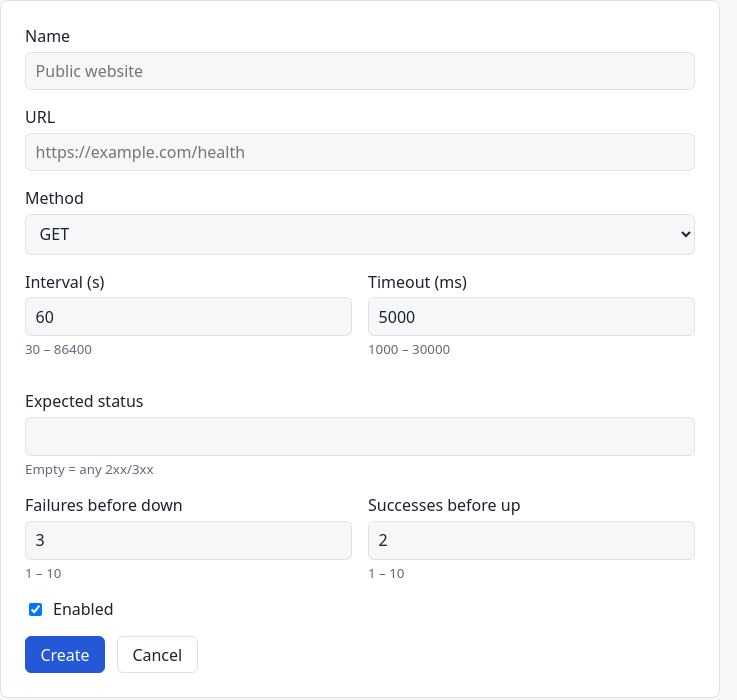
Scenario: MonitorForm › shows server field errors next to the field
Type "Internal" into the field labelled "Name" at (360, 71), box [25,52,695,90]
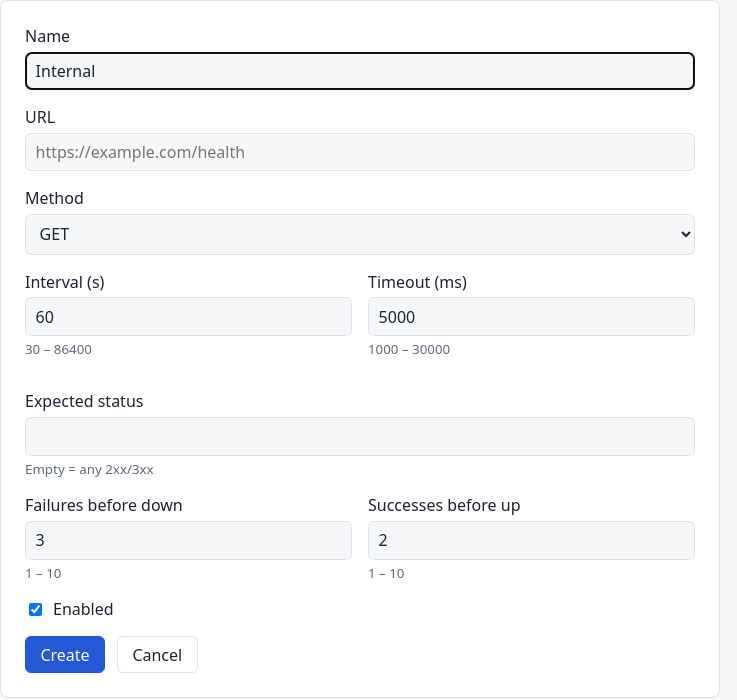
Type "http://169.254.169.254/" into the field labelled "URL" at (360, 152), box [25,133,695,171]
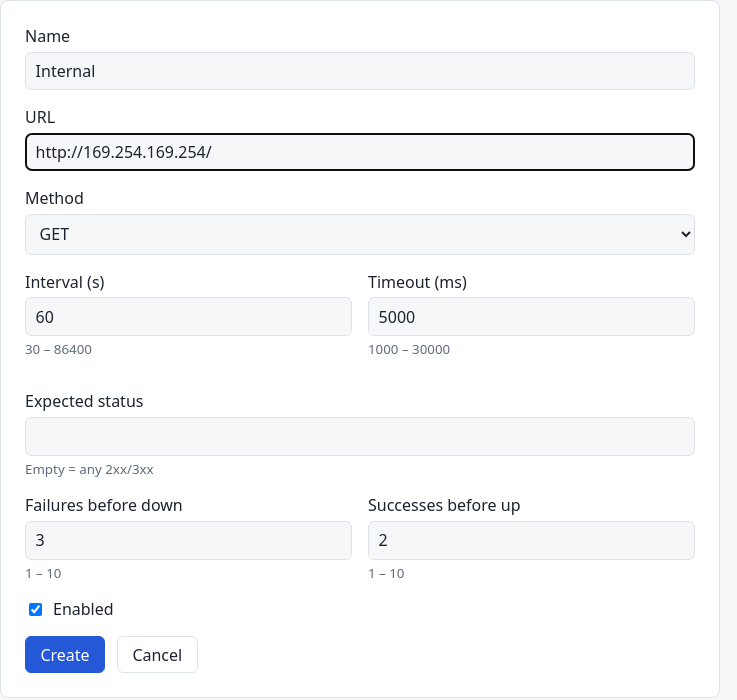
Click the button "Create" at (65, 655), box [25,636,105,673]
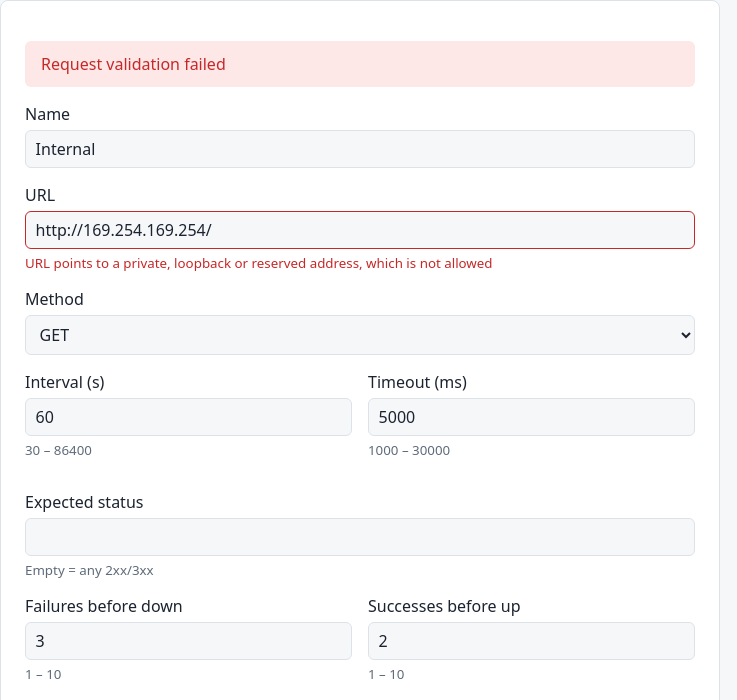
Expected: the text "private, loopback or reserved" is shown, [25,254,493,272]
